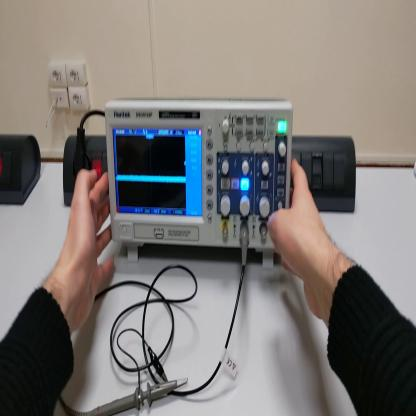hand: (268, 158, 331, 323), (54, 168, 117, 330)
oscilloscope: (106, 102, 293, 273)
oscilloscope probe tip: (68, 376, 193, 416)
socket: (63, 136, 109, 209), (2, 133, 42, 209)
